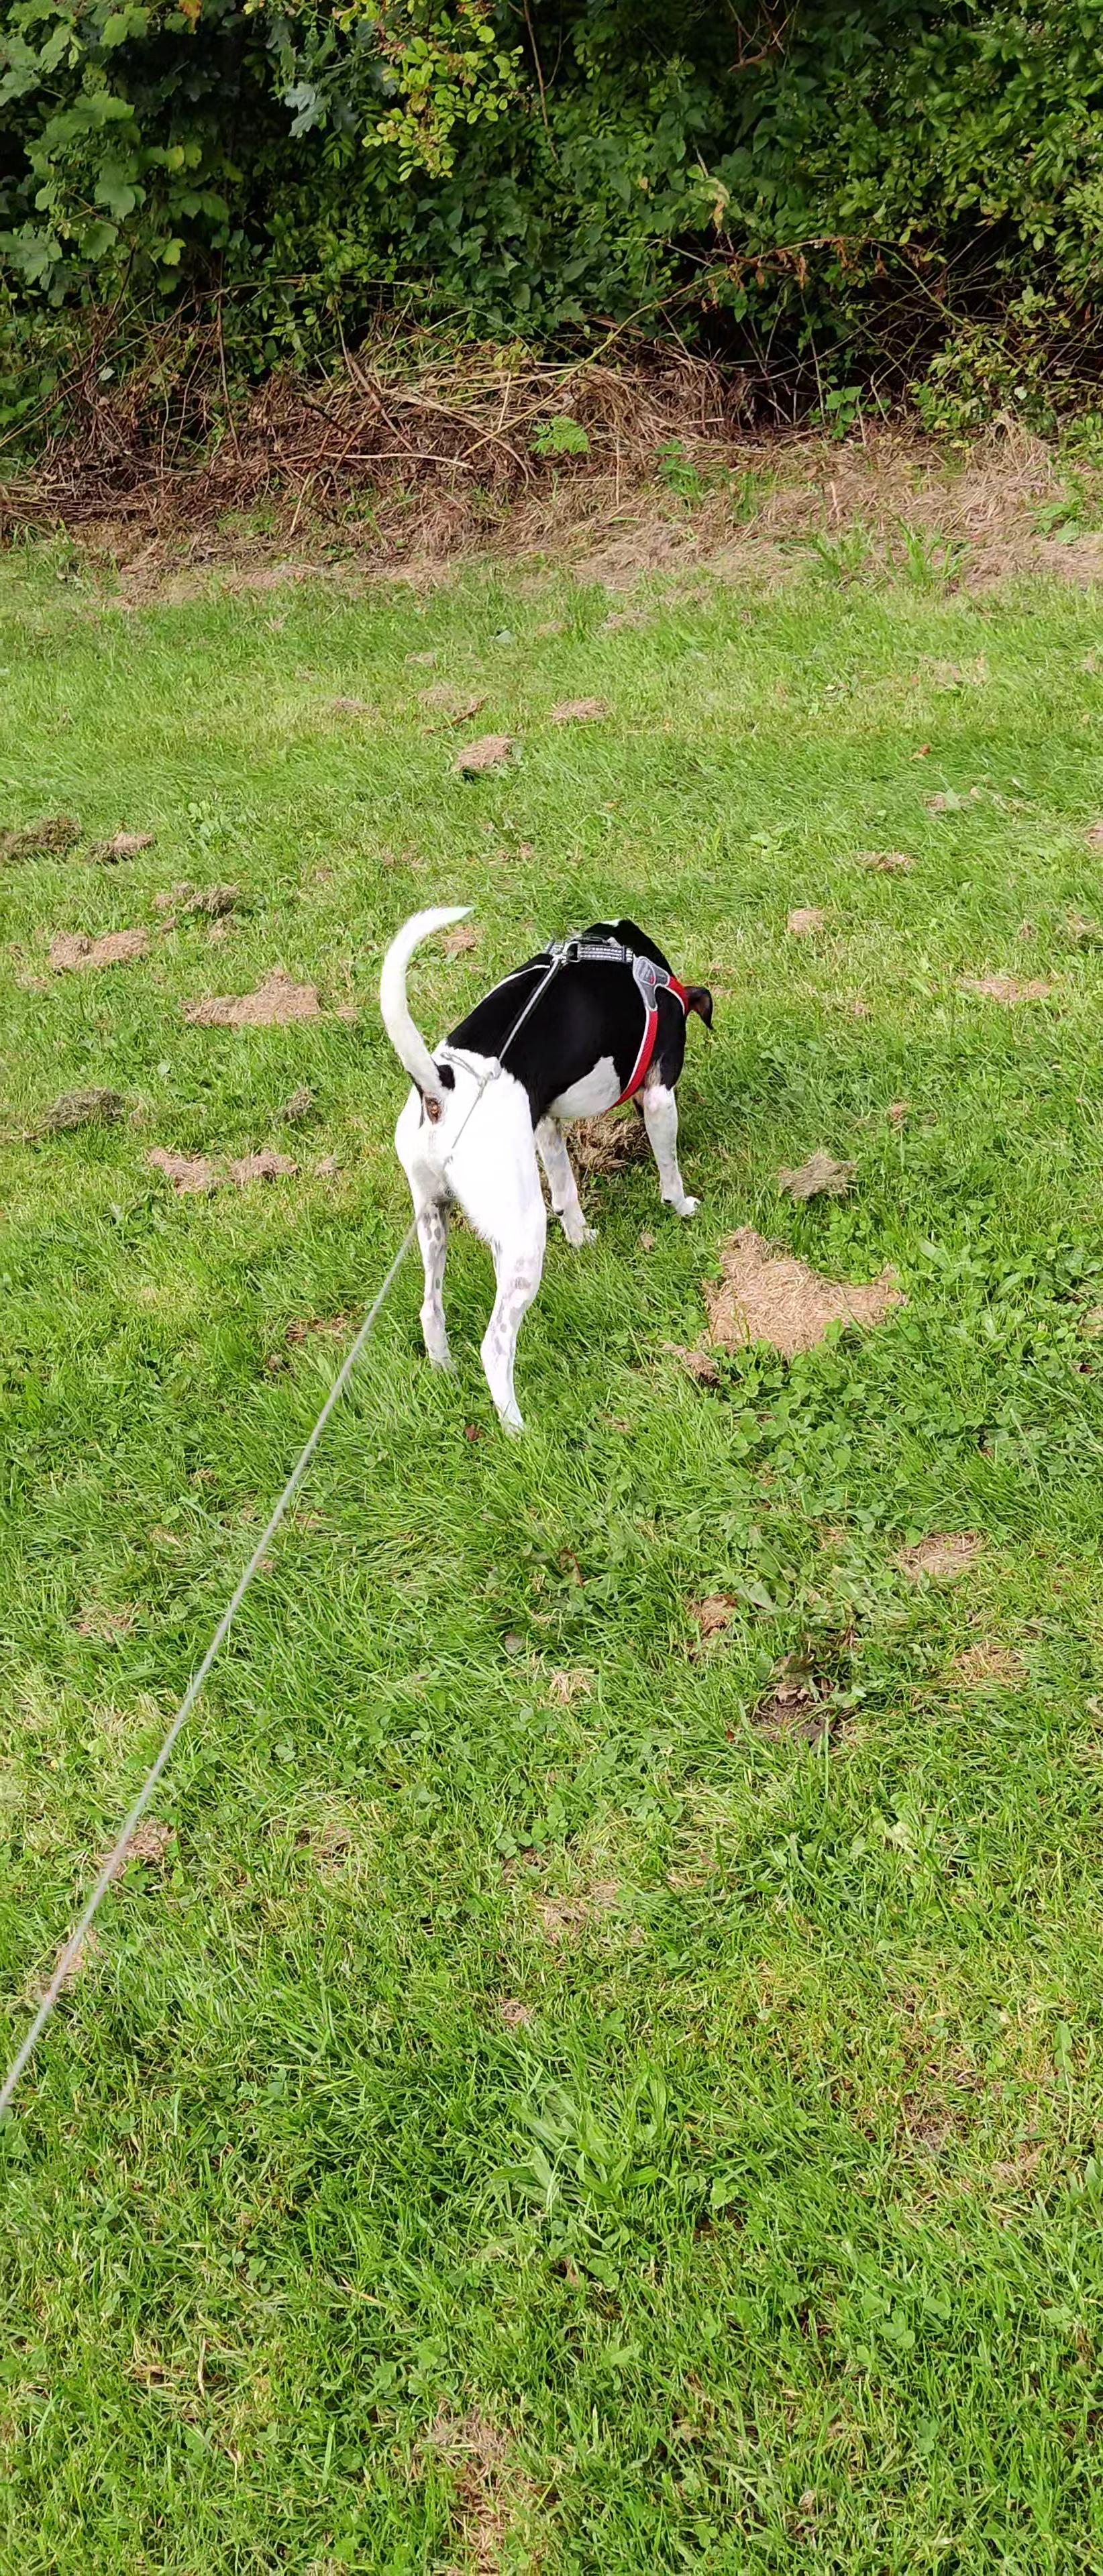Dog: (332, 871, 750, 1442)
